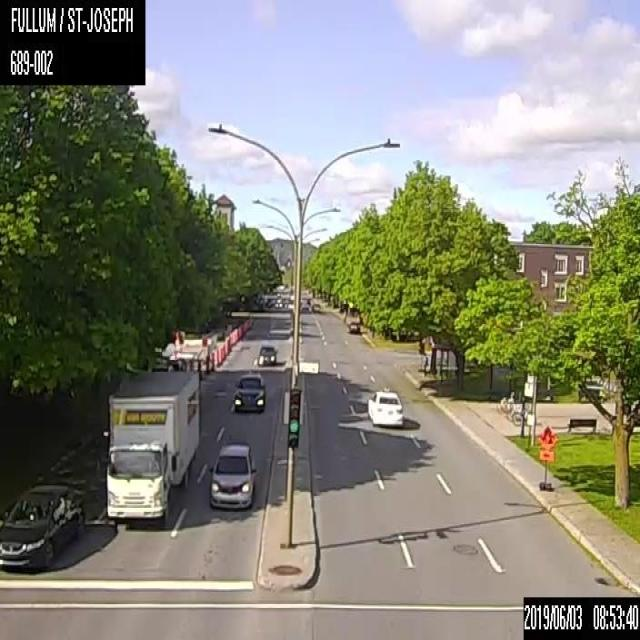construction: (536, 424, 556, 491), (209, 351, 216, 371), (196, 358, 202, 379), (176, 330, 184, 344), (203, 356, 209, 372), (216, 347, 220, 365), (201, 336, 207, 345)
vehicle: (99, 367, 199, 524), (0, 480, 86, 568), (208, 441, 256, 507), (366, 388, 404, 425), (233, 369, 266, 411), (256, 344, 276, 364), (347, 319, 360, 333), (312, 301, 320, 312)
